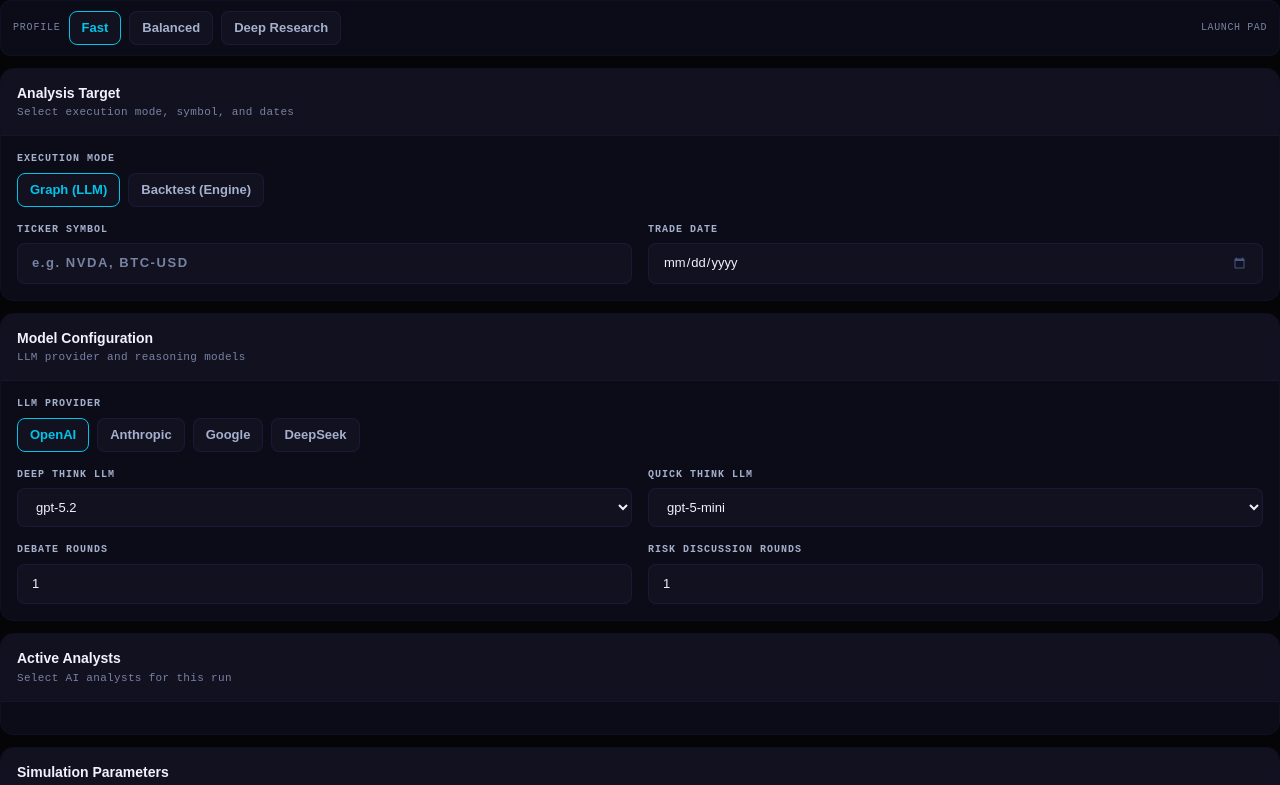
Scenario: shows DeepSeek defaults when model fetch fails
Click the tab "DeepSeek". click: (316, 434)
box: left=271, top=418, right=360, bottom=452
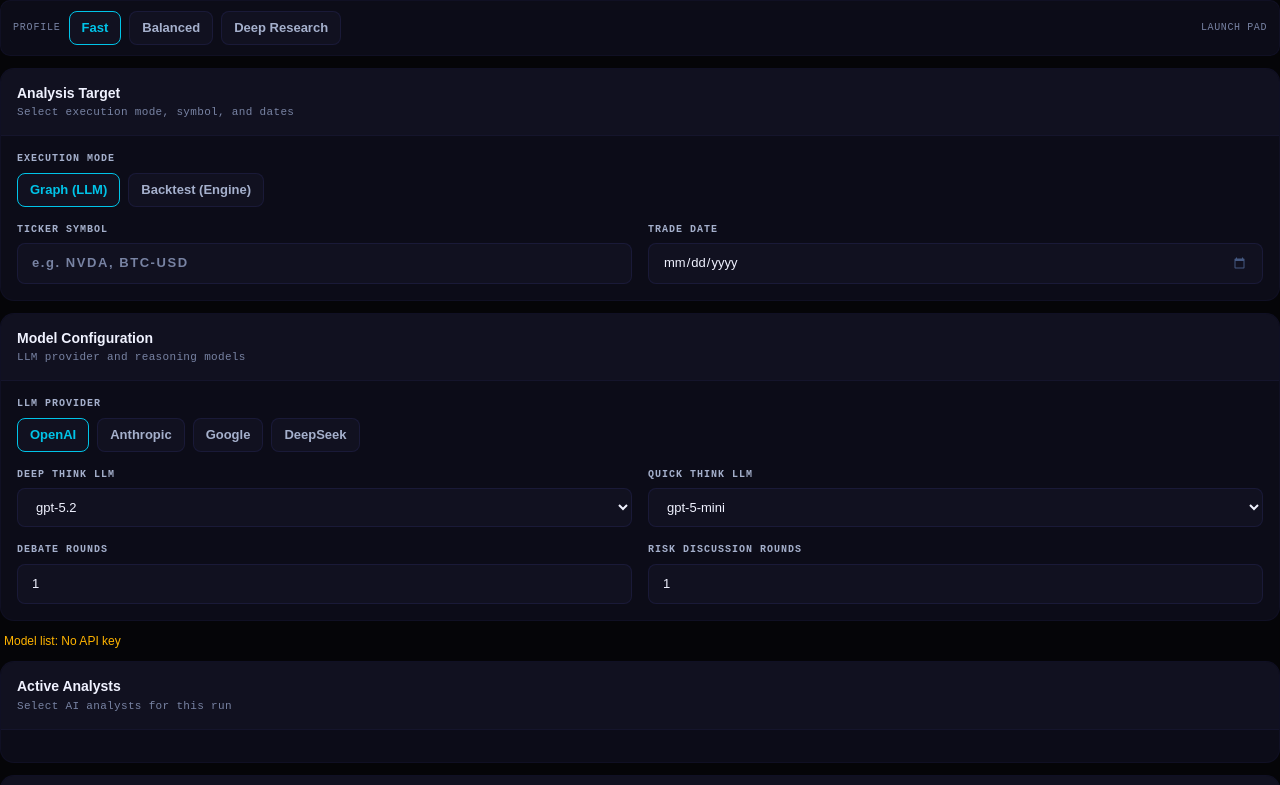
Now the text "Model list: No API key" is shown, box left=4, top=634, right=121, bottom=648
